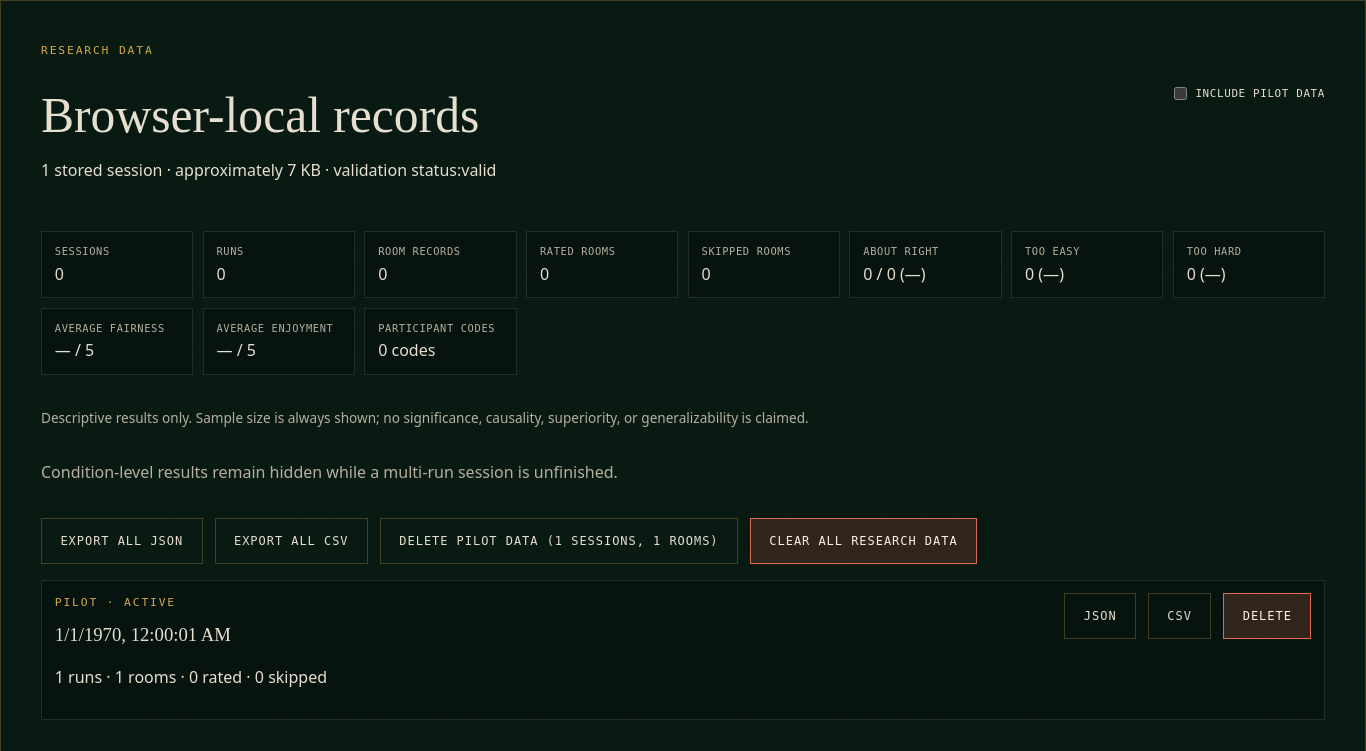
Research data management panel › prepares validated JSON and CSV downloads
Click the button "Export all JSON": (122, 541) [41, 518, 203, 564]
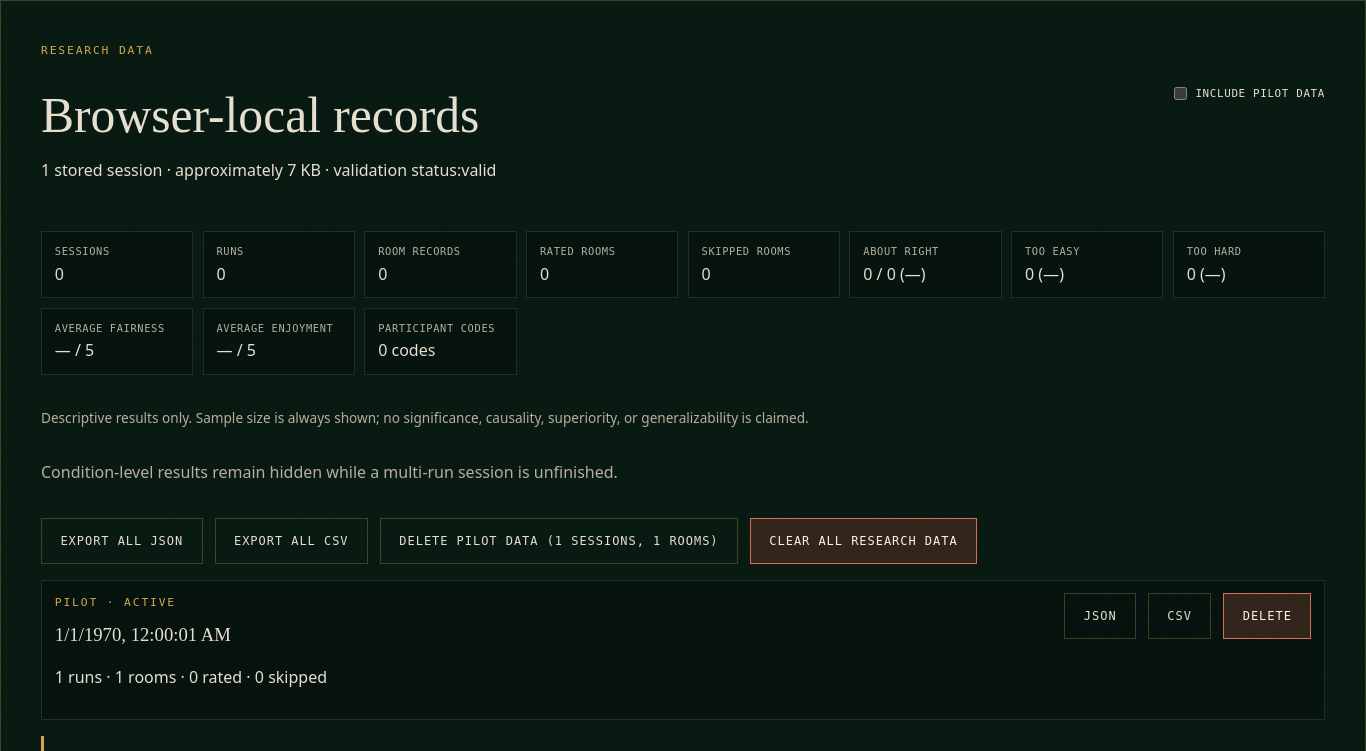
Click the button "Export all CSV": (291, 541) [215, 518, 368, 564]
(page scrolled)
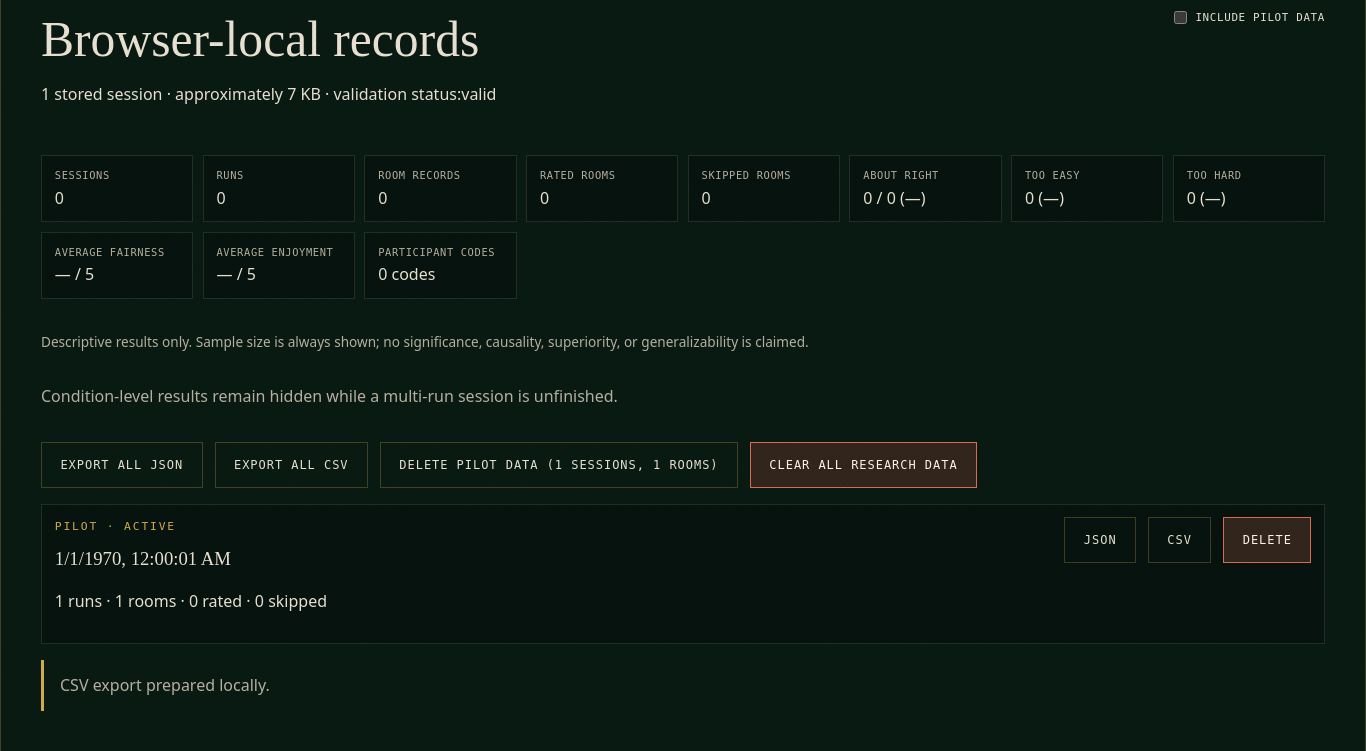
Result: the message reads "CSV export prepared locally." at [60, 674, 270, 696]
